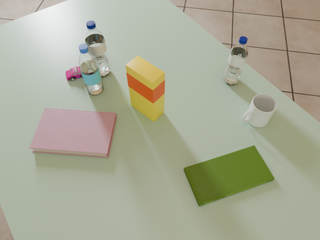book: (184, 146, 274, 206), (29, 108, 117, 158)
bottle: (84, 21, 111, 77), (79, 44, 103, 95), (224, 36, 248, 85)
box: (126, 56, 165, 121)
cup: (242, 94, 277, 127)
toy_car: (66, 65, 82, 81)
